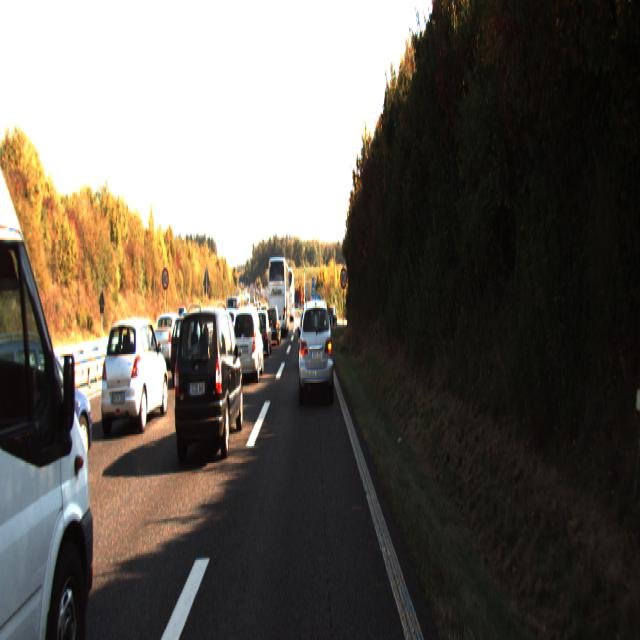Car: (0, 37, 111, 638), (0, 321, 96, 540), (171, 300, 244, 466), (99, 314, 170, 435), (298, 296, 334, 404), (171, 311, 211, 383), (230, 303, 264, 383), (152, 313, 190, 373), (267, 254, 290, 335), (252, 308, 272, 356), (265, 306, 282, 348)
